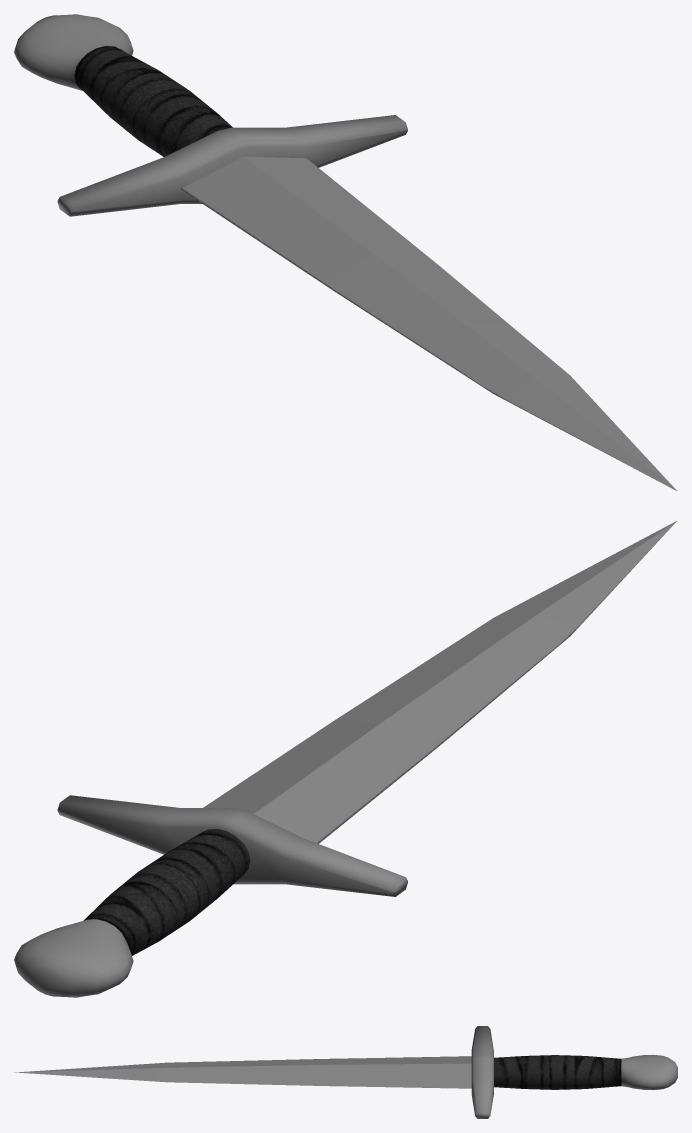
File: mf_dagger_01.fbx
The picture shows the model from 3 angles, top to bottom: view 1: azimuth 30°, elevation 25°; view 2: azimuth 150°, elevation 25°; view 3: azimuth 270°, elevation 25°; orthographic projection. The views are drawn at different scales.
Visible parts, largest first — view 1: mf dagger 01; view 2: mf dagger 01; view 3: mf dagger 01.
Boxes of the visible parts, <box> form: mf dagger 01: <box>14,14,676,490</box>; mf dagger 01: <box>14,521,676,997</box>; mf dagger 01: <box>14,1026,677,1118</box>.
Bounding box in the file's own units: 61.58 × 10.6 × 200.
